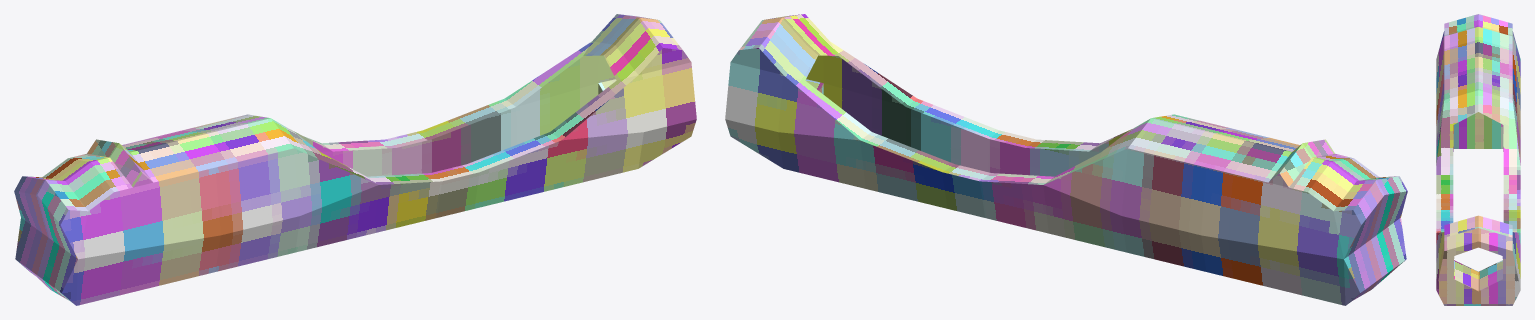
File: gun_top.glb
3 views of the same model, side by side, from view 1: azimuth 30°, elevation 25°; view 2: azimuth 150°, elevation 25°; view 3: azimuth 270°, elevation 25° (orthographic). The views are drawn at different scales.
Visible parts, largest first — view 1: Plane.001; view 2: Plane.001; view 3: Plane.001.
Part boxes in pixels (<box>): Plane.001: <box>14,14,696,305</box>; Plane.001: <box>725,14,1407,305</box>; Plane.001: <box>1436,14,1520,305</box>.
Bounding box in the file's own units: 7.03 × 1.38 × 1.1.
1 material, 1 textured.
